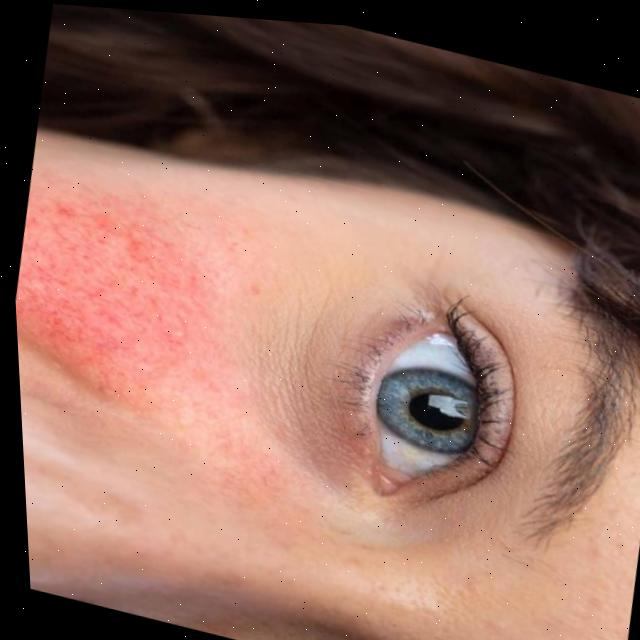Rosacea: (23, 187, 256, 449)
